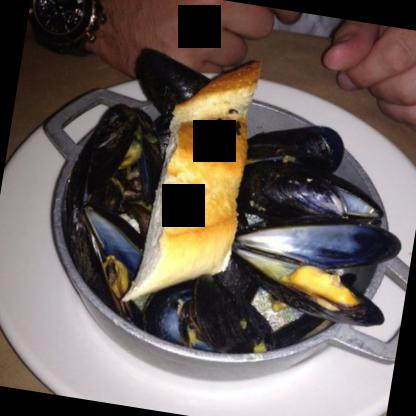bread: (122, 49, 266, 314)
